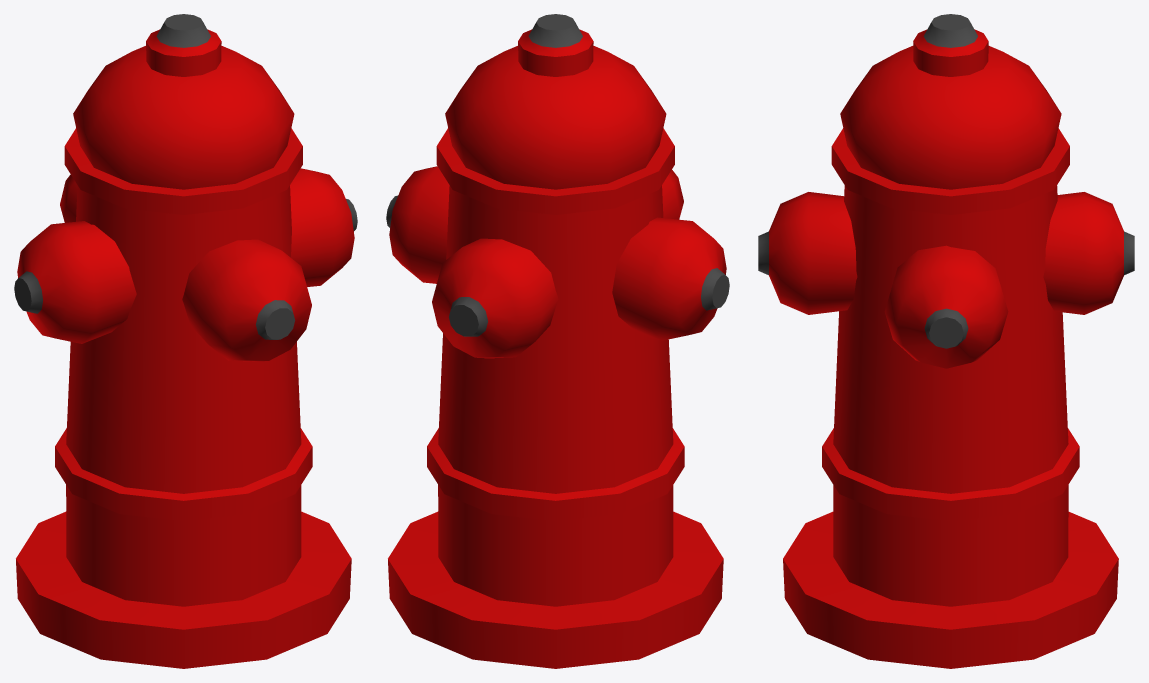
The model's file is Fire Hydrant.fbx.
3 views of the same model, side by side, from view 1: azimuth 30°, elevation 25°; view 2: azimuth 150°, elevation 25°; view 3: azimuth 270°, elevation 25° (orthographic).
Visible parts, largest first — view 1: Fire Hydrant; view 2: Fire Hydrant; view 3: Fire Hydrant.
Boxes of the visible parts, x1,y1,x2,y2 form: Fire Hydrant: (14, 14, 357, 668); Fire Hydrant: (386, 14, 729, 668); Fire Hydrant: (758, 14, 1134, 668).
Size of the model in its own units: 0.2089 by 0.3528 by 0.2089.
